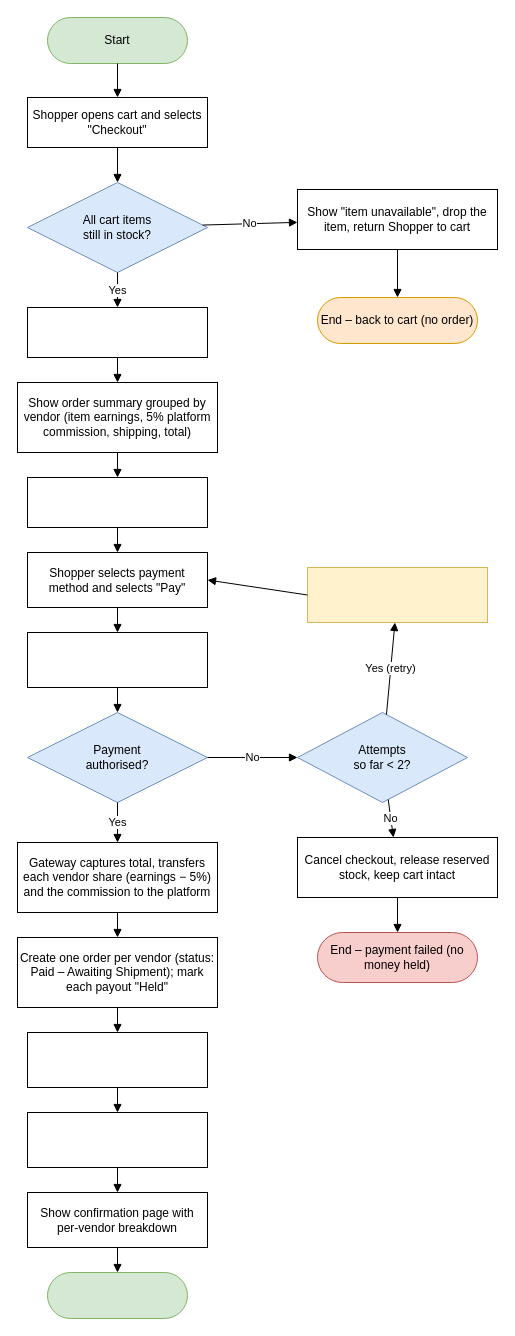
The diagram is 515 pixels wide and 1336 high, and some of its shapes have lost their labels. The box of each missing label's shape, as (x1, y1, x2, y2) in pixels:
End – order placed: (46, 1272, 188, 1318)
Notify each vendor of the new order; email receipt to Shopper: (26, 1112, 208, 1168)
Prompt Shopper for another payment method: (306, 566, 488, 622)
Reduce stock by ordered quantities and clear the cart: (26, 1032, 208, 1088)
Reserve stock quantities for the order: (26, 306, 208, 358)
Send total and per-vendor split to Payment Gateway: (26, 632, 208, 688)
Shopper confirms shipping address: (26, 476, 208, 528)
